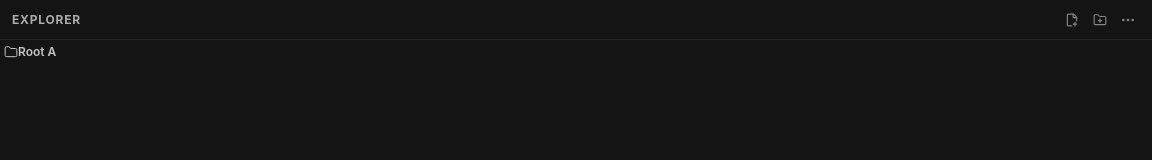
Scenario: ExplorerActionMenu › shows one plain reason for an open file
Click the button named "More Explorer actions". click: (1128, 20)
box: left=1116, top=8, right=1140, bottom=32
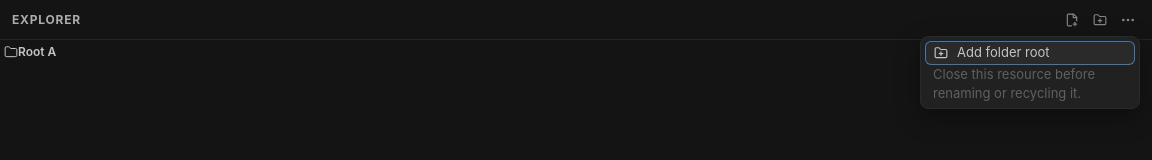
Check: the number of menu items is 2, box left=925, top=40, right=1135, bottom=64; left=933, top=66, right=1095, bottom=101
